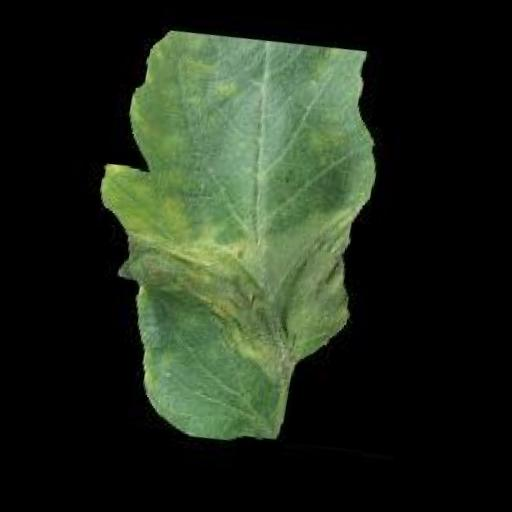Late Blight: (57, 18, 402, 466)
